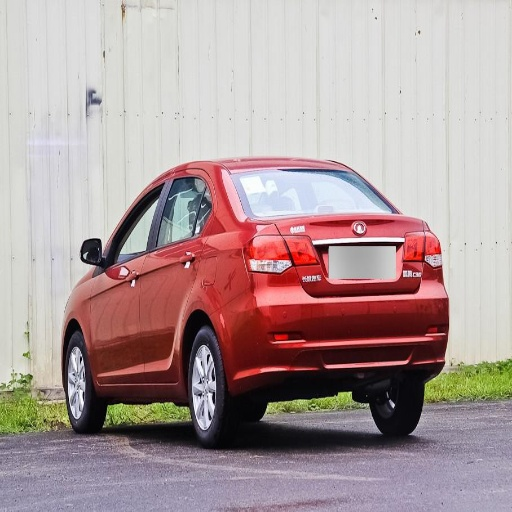back_bumper: (222, 268, 450, 389)
back_glass: (232, 169, 392, 213)
back_left_door: (139, 169, 210, 381)
tailgate: (271, 210, 414, 296)
